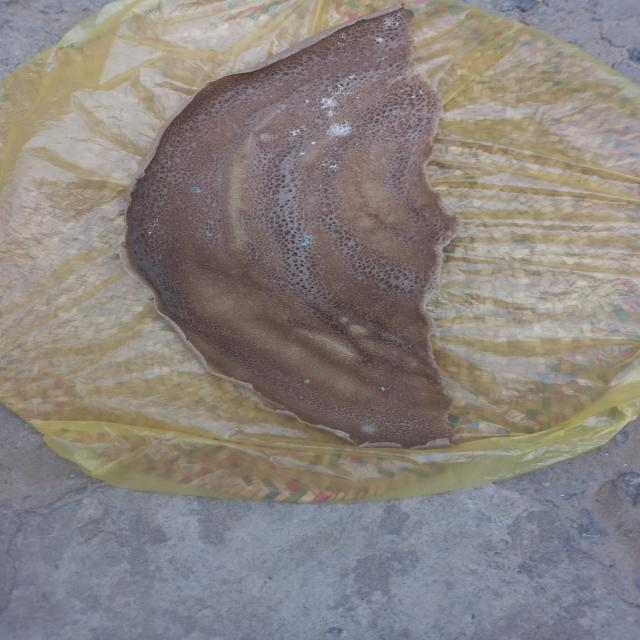injera_mold: (326, 120, 356, 138), (315, 157, 346, 171), (316, 94, 339, 112), (142, 220, 164, 236), (295, 232, 313, 248), (358, 424, 381, 434), (381, 15, 399, 27), (336, 84, 353, 96), (288, 127, 302, 138), (343, 73, 358, 82), (378, 384, 391, 394), (201, 230, 217, 238), (336, 31, 350, 39), (188, 186, 202, 194), (302, 376, 312, 386), (374, 35, 384, 44), (324, 84, 335, 92), (406, 94, 416, 102), (302, 98, 312, 104), (335, 431, 345, 436), (417, 89, 424, 95), (137, 227, 142, 235), (279, 105, 288, 109), (397, 11, 402, 16), (398, 89, 406, 92), (310, 141, 316, 145), (370, 150, 375, 154), (398, 50, 403, 54), (402, 19, 407, 23), (300, 152, 306, 155), (384, 177, 390, 180), (380, 57, 386, 60), (152, 218, 160, 220), (355, 96, 360, 99), (337, 73, 342, 76), (336, 42, 341, 45), (311, 106, 316, 109), (384, 76, 390, 78), (323, 149, 326, 153), (354, 150, 358, 153), (284, 164, 288, 167), (190, 231, 194, 234), (318, 184, 322, 187), (332, 78, 338, 80), (332, 148, 338, 150), (334, 138, 340, 140), (322, 173, 327, 175), (364, 24, 369, 26), (355, 28, 360, 30), (327, 138, 332, 140), (380, 130, 384, 132), (263, 141, 267, 143), (186, 158, 190, 160), (192, 154, 196, 156), (348, 188, 352, 190), (263, 118, 267, 120), (408, 39, 412, 41), (349, 43, 353, 45), (352, 39, 356, 41), (280, 138, 284, 140), (286, 150, 290, 152), (408, 345, 412, 347), (358, 170, 360, 173), (193, 158, 196, 160), (270, 95, 273, 97), (390, 98, 393, 100), (198, 158, 200, 160), (388, 30, 390, 32), (388, 39, 390, 41), (237, 101, 241, 102), (301, 165, 304, 166)
